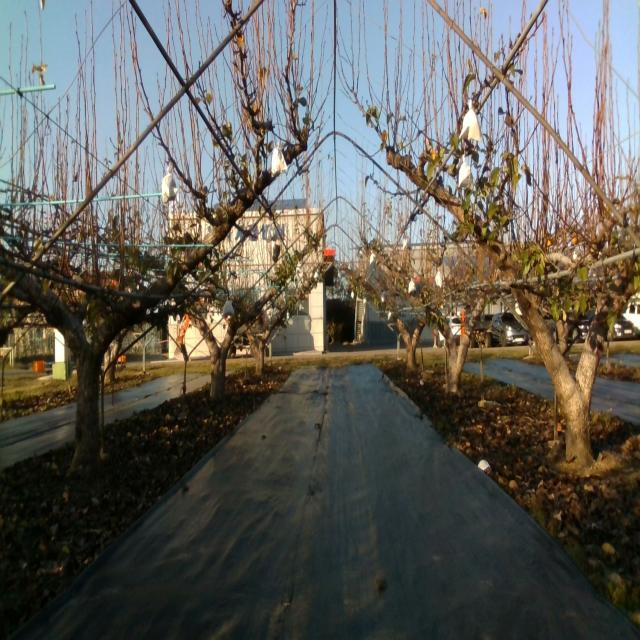pearbags: (457, 96, 482, 141), (270, 140, 288, 178), (458, 155, 476, 193), (161, 170, 179, 205), (222, 297, 235, 316)
